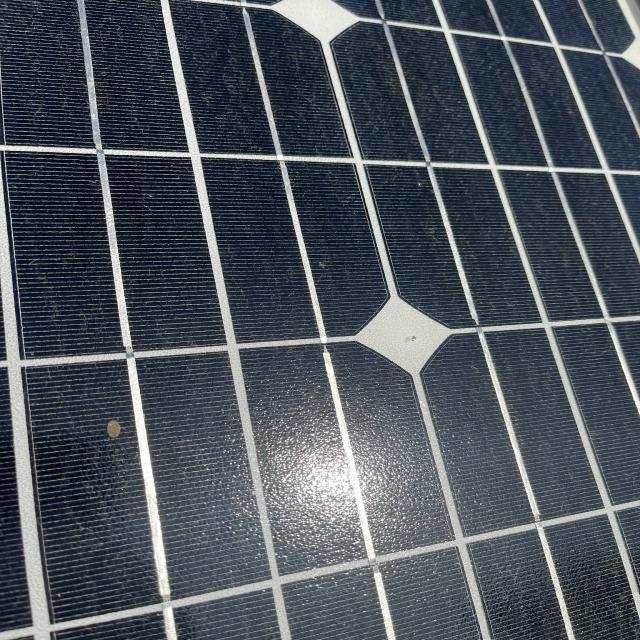clean-solar-panel: (3, 0, 638, 640)
